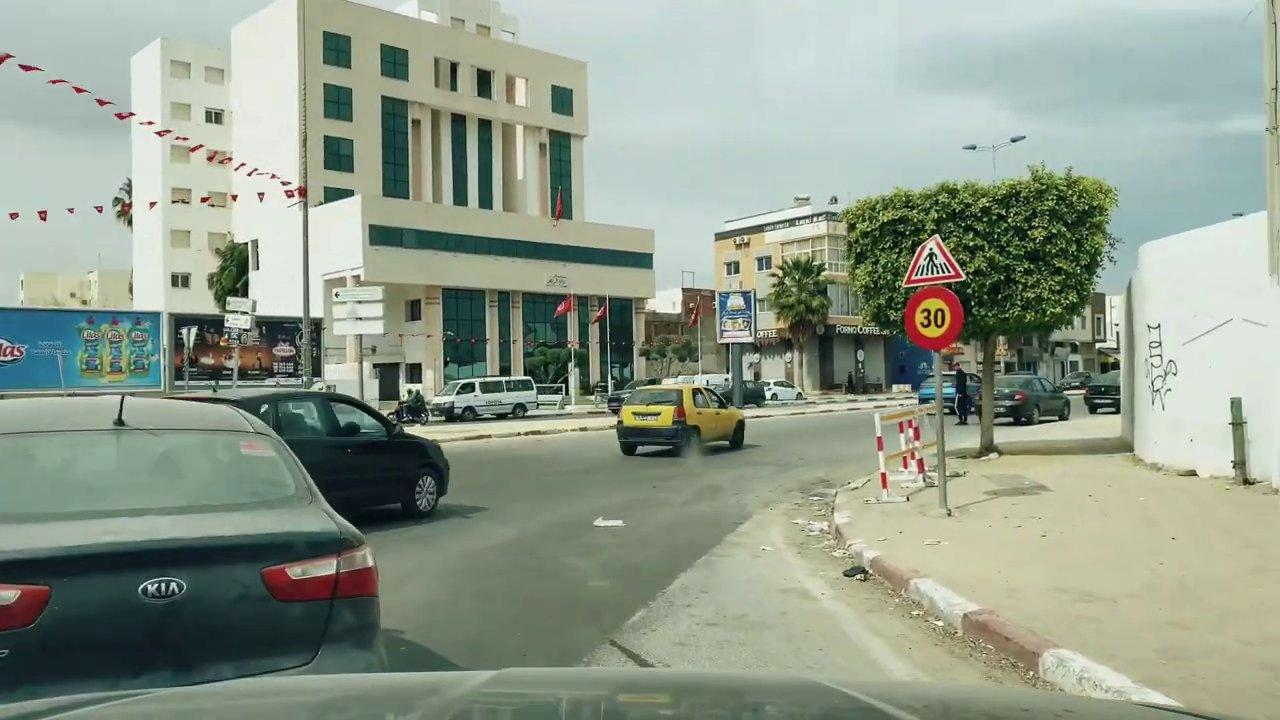pedestrian crossing ahead: (894, 235, 970, 289)
speed limit 30: (901, 285, 968, 357)
